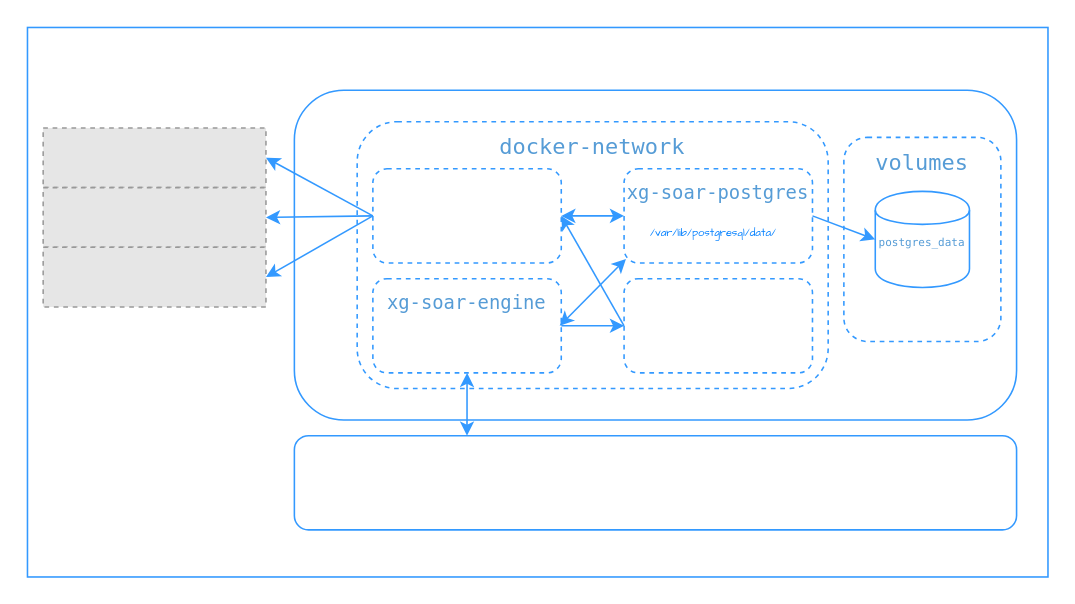
This 1075x604 diagram has some shape labels left out. Grey dashed boxes stand in for pictures. The box of each missing label's shape, as (x1, y1, x2, y2) in pixels:
docker_host: (293, 434, 1017, 530)
xg-soar-redis: (623, 277, 812, 373)
xg-soar-worker: (371, 167, 561, 263)
